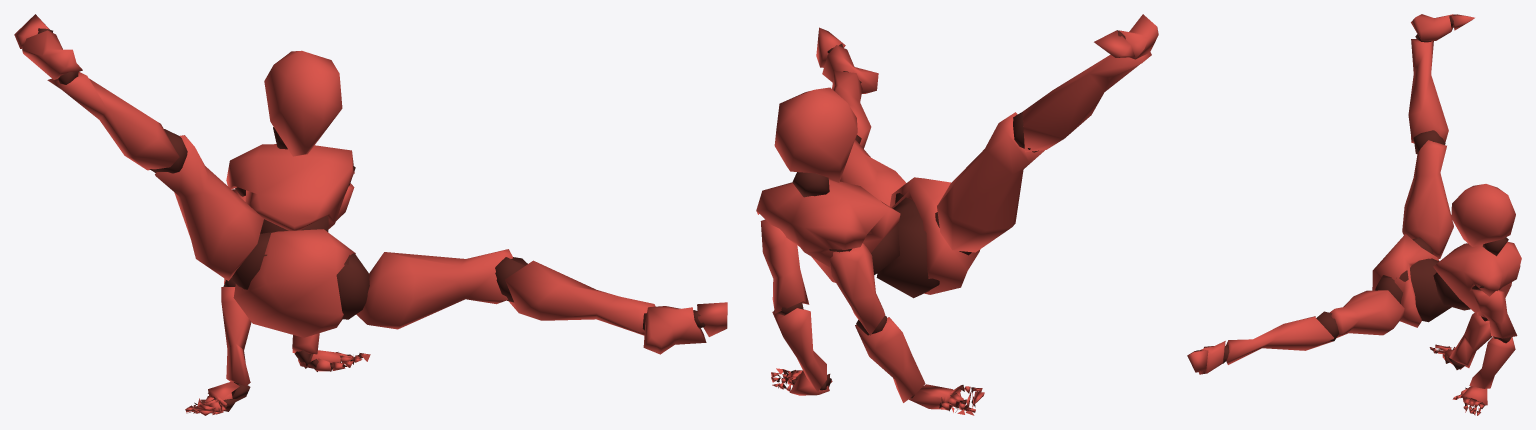
3 renders of one model, left to right at view 1: azimuth 30°, elevation 25°; view 2: azimuth 150°, elevation 25°; view 3: azimuth 270°, elevation 25°, orthographic. The views are drawn at different scales.
Parts seen in each view (by area): view 1: Beta_Surface; view 2: Beta_Surface; view 3: Beta_Surface.
Boxes of the visible parts, box(x1,y1,x2,y2) form: Beta_Surface: box(14, 14, 727, 415); Beta_Surface: box(756, 14, 1158, 415); Beta_Surface: box(1187, 14, 1521, 415).
Bounding box in the file's own units: 16.27 × 12.82 × 13.33.
